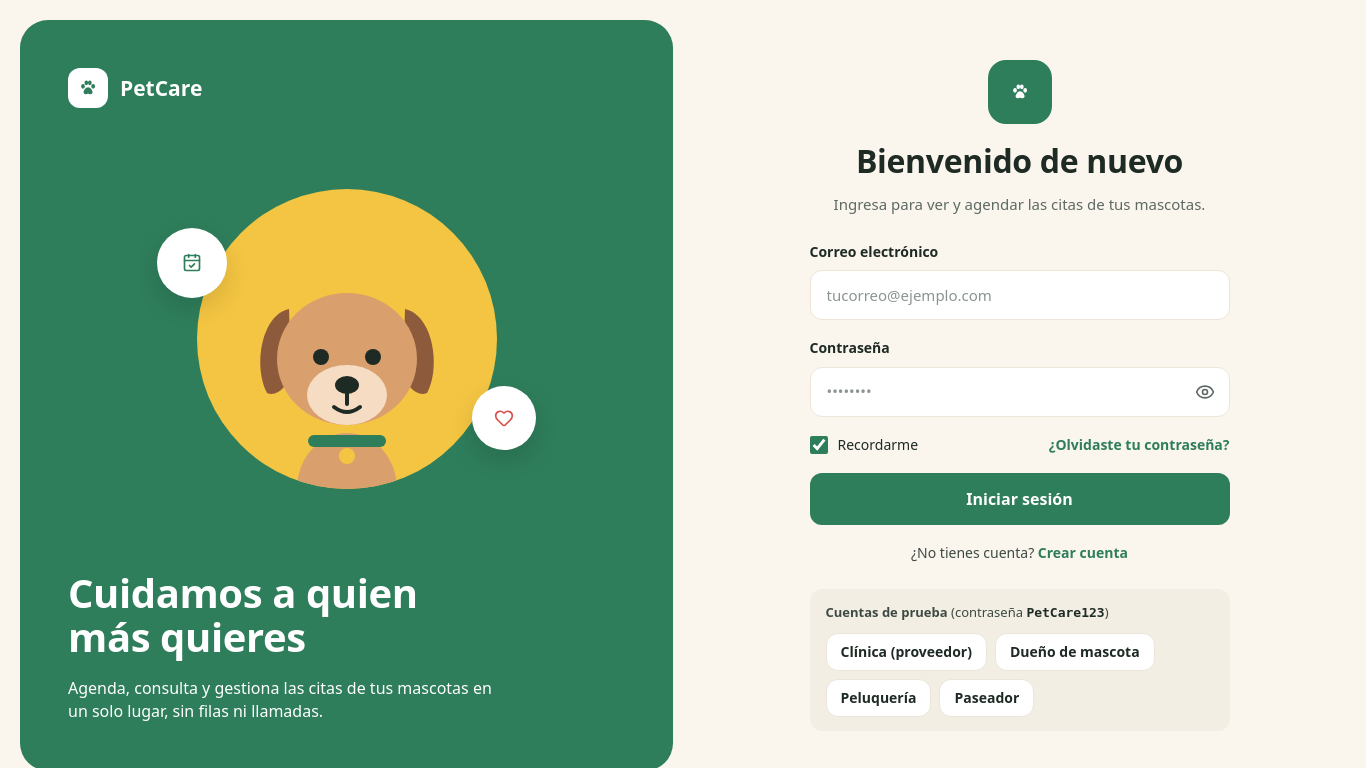
Login › los botones de cuentas de prueba llenan el formulario
The image size is (1366, 768).
Click the button "Dueño de mascota".
click(1075, 652)  # box [995, 633, 1155, 671]
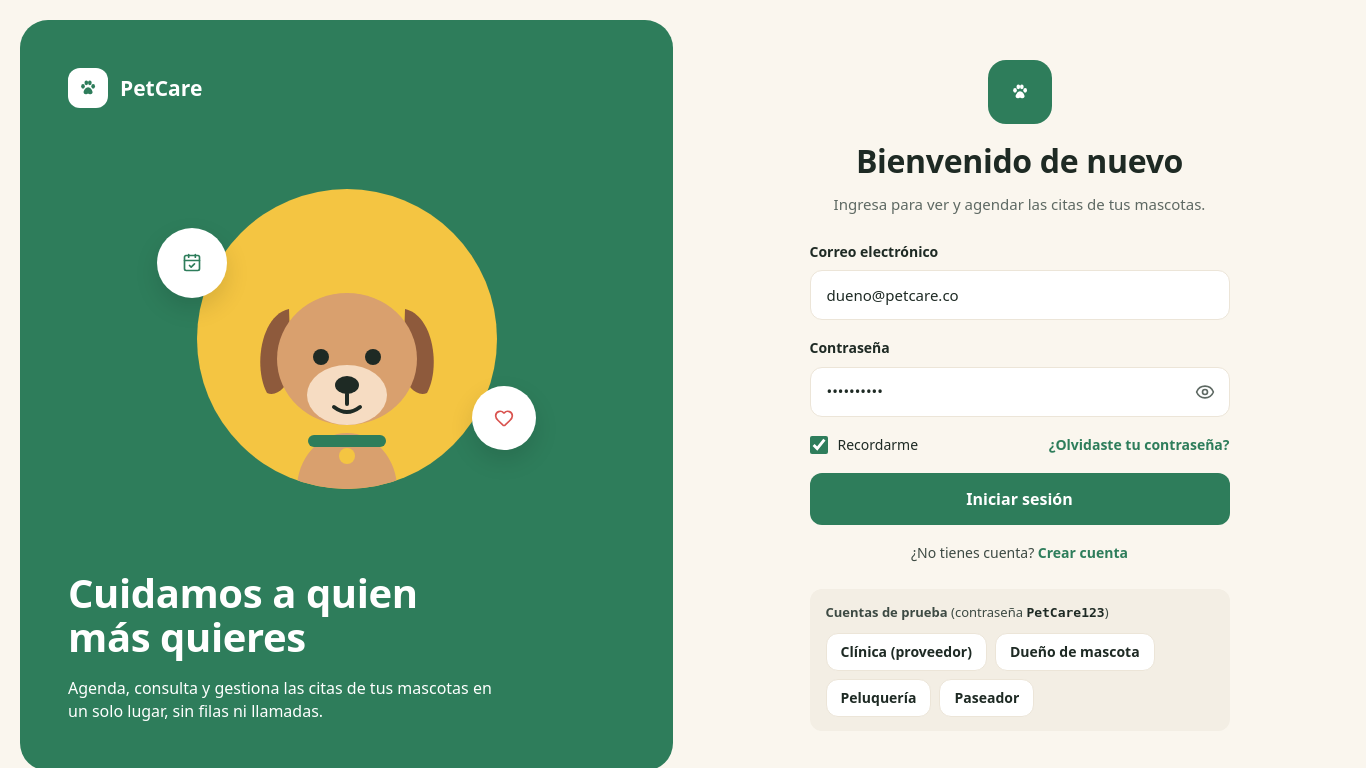
expect the field labelled "Correo electrónico" holds "dueno@petcare.co": met, box [810, 270, 1230, 320]
expect the password field labelled "Contraseña" holds "PetCare123": met, box [810, 367, 1230, 417]
